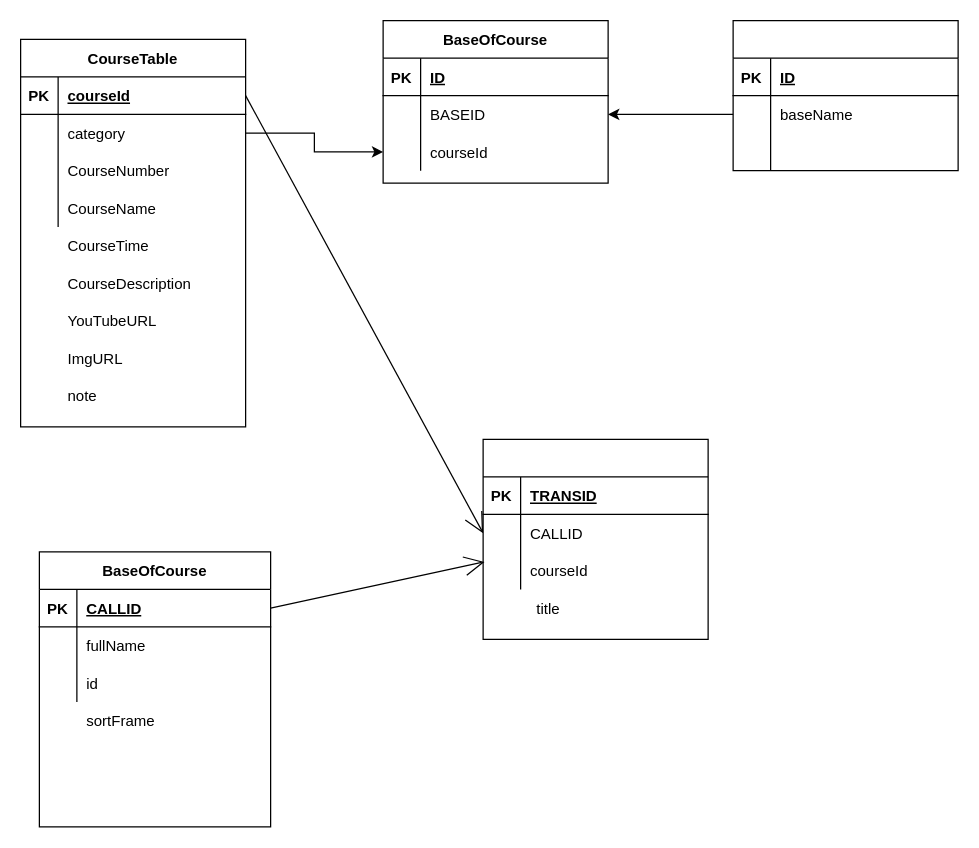
Some shapes in this 979 by 848 pixel diagram are drawn without their labels. Each missing label, with the box of its shape:
AIFBase: (732, 19, 958, 171)
ChoiseTable: (482, 438, 708, 639)
